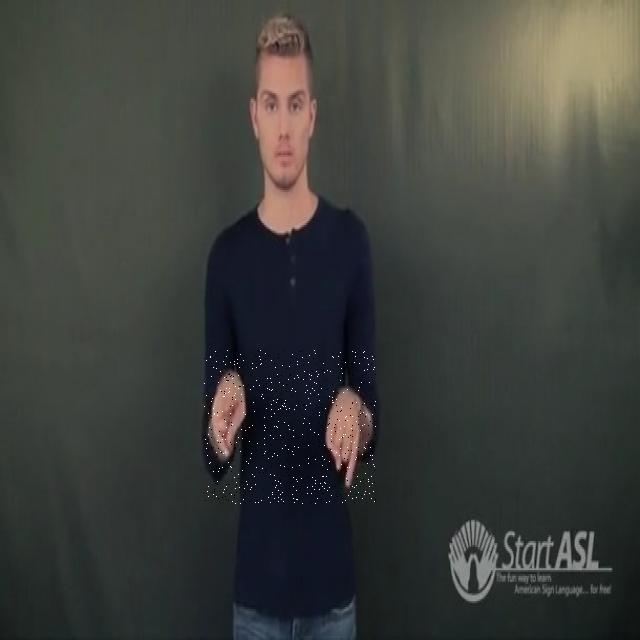eggs: (204, 350, 376, 504)
